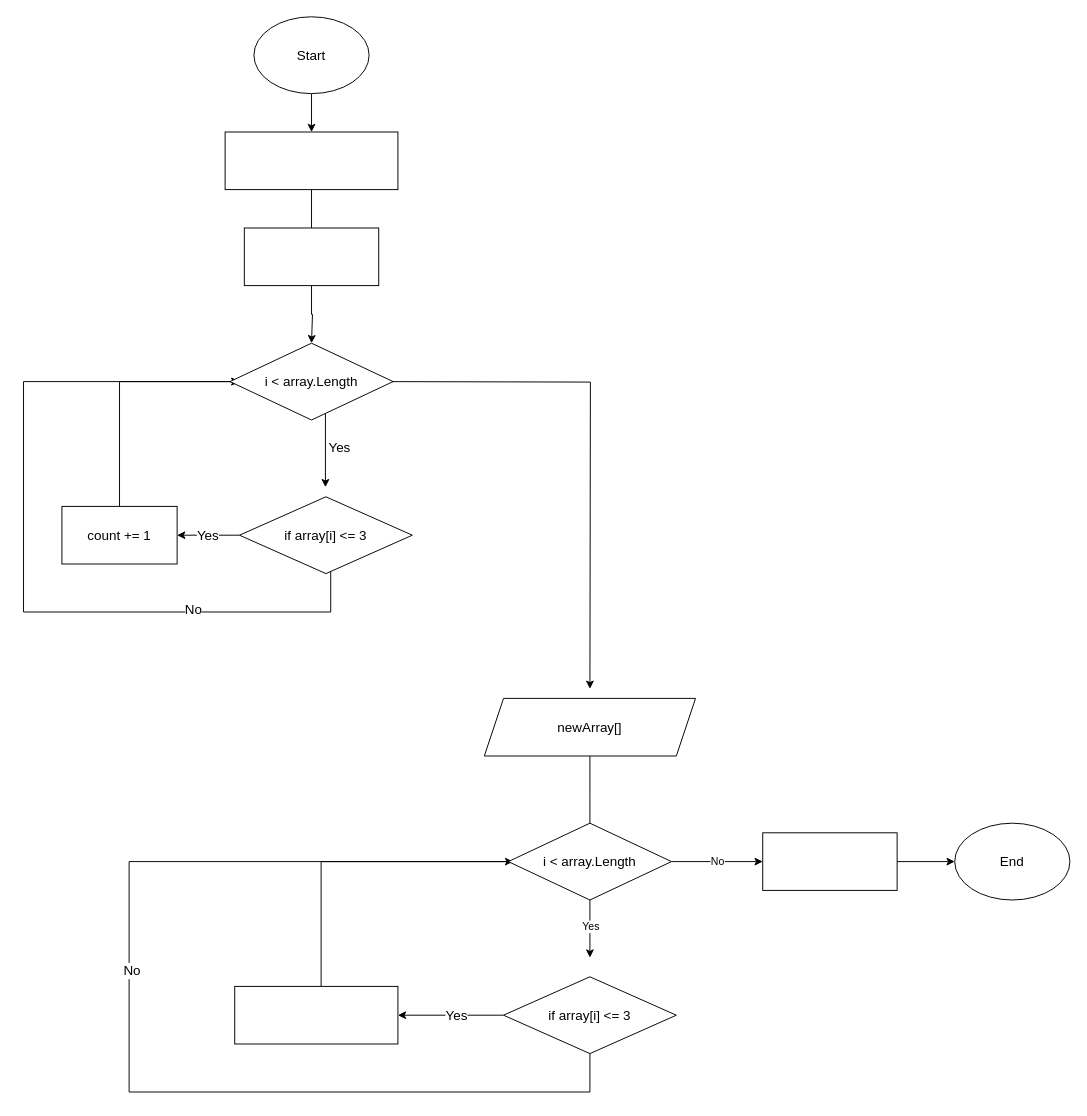
This 1087x1116 diagram has some shape labels left out. The centre of each missing label's shape, as x and y in pixels:
"array[] count" goes at [311,160].
"Method NewArray" goes at [311,256].
"Method PrintNewArray" goes at [829,861].
"newArray[i] = array[i]" goes at [316,1014].
